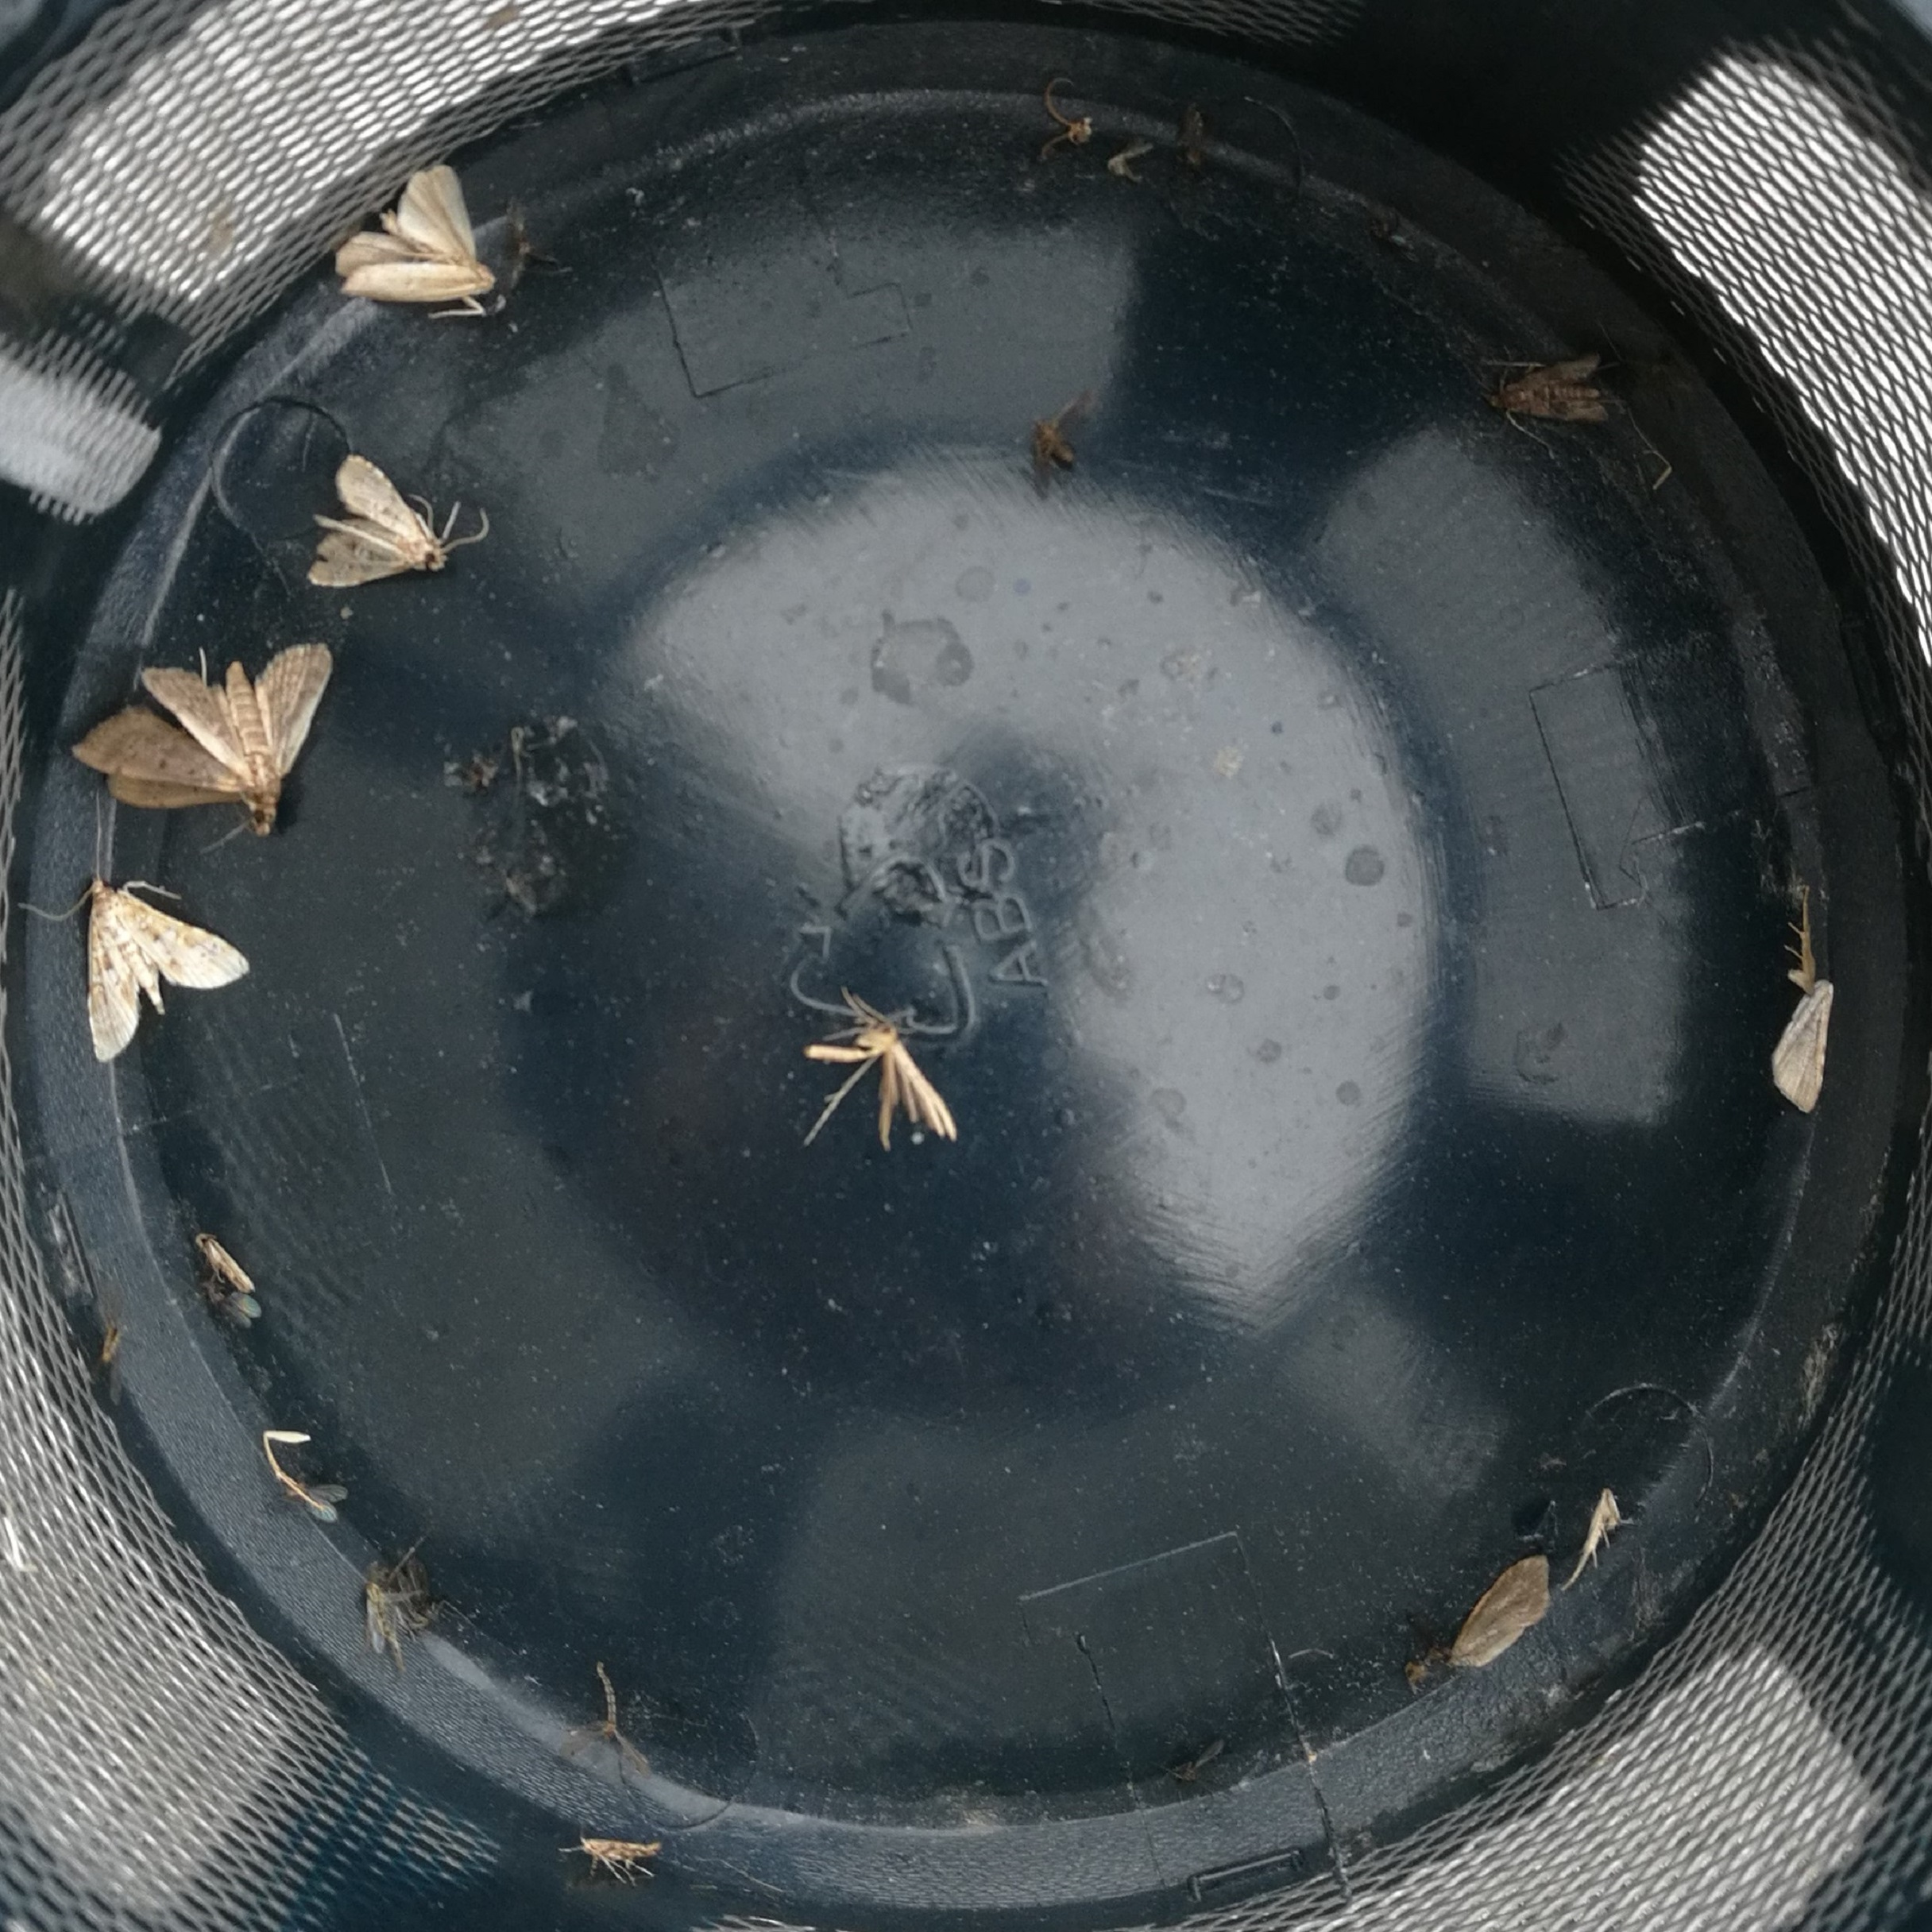mosquito: (580, 1838, 662, 1882), (200, 1224, 255, 1288)
moth: (71, 639, 334, 832), (87, 881, 248, 1062), (334, 166, 495, 301), (306, 453, 439, 587)
